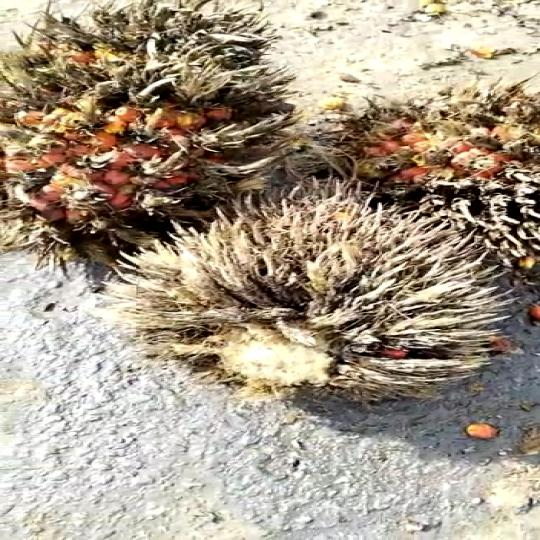terlalu masak: (113, 188, 501, 398)
